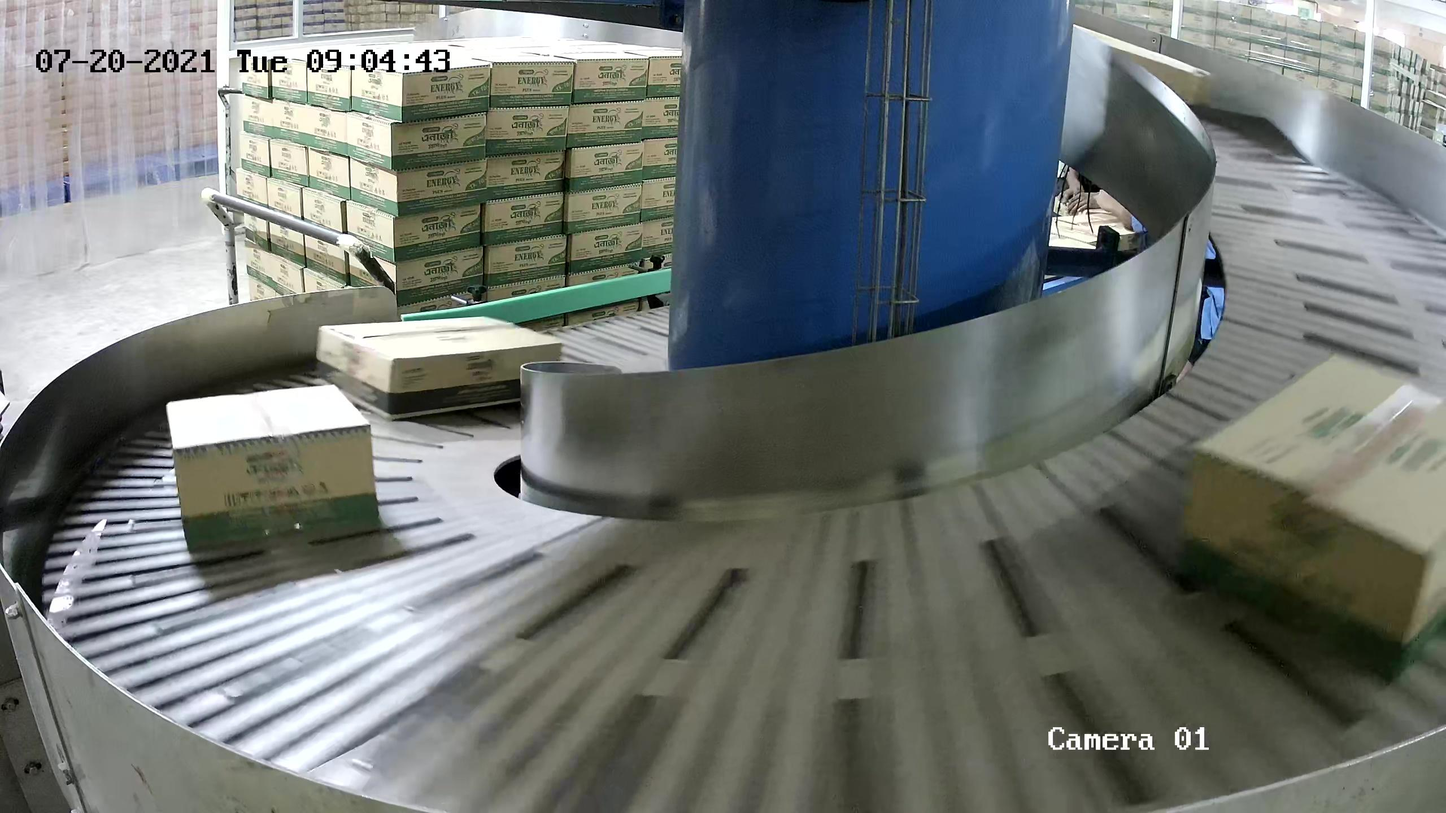Box: (1181, 351, 1446, 684), (165, 383, 382, 551), (315, 315, 563, 421)
